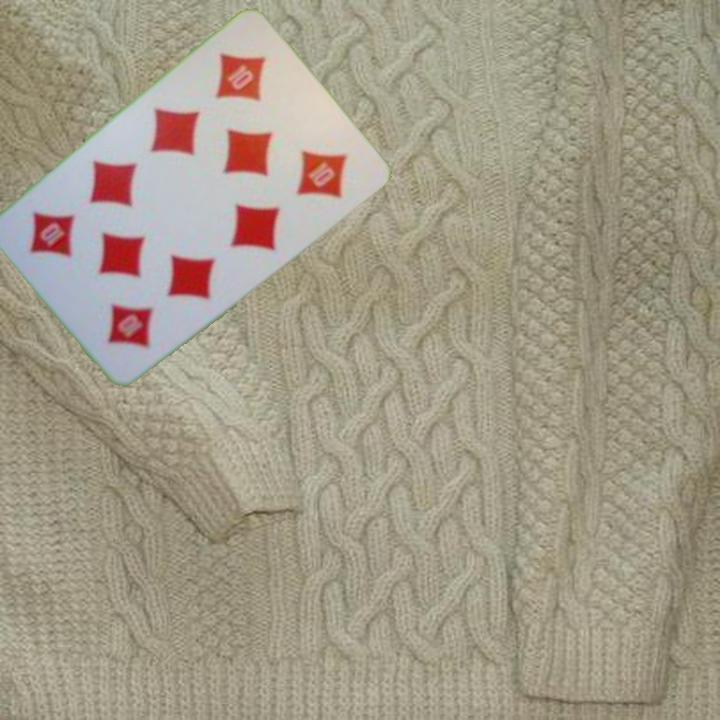d_10.png: (63, 246, 191, 375), (186, 24, 313, 153)
